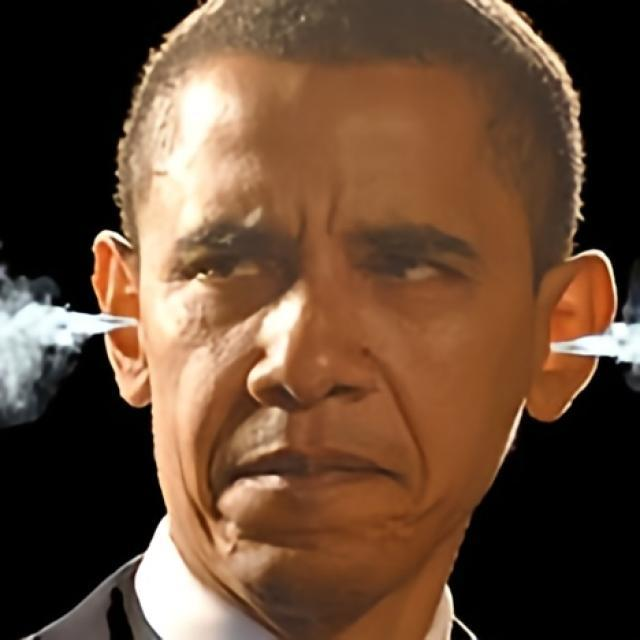anger: (147, 44, 538, 573)
